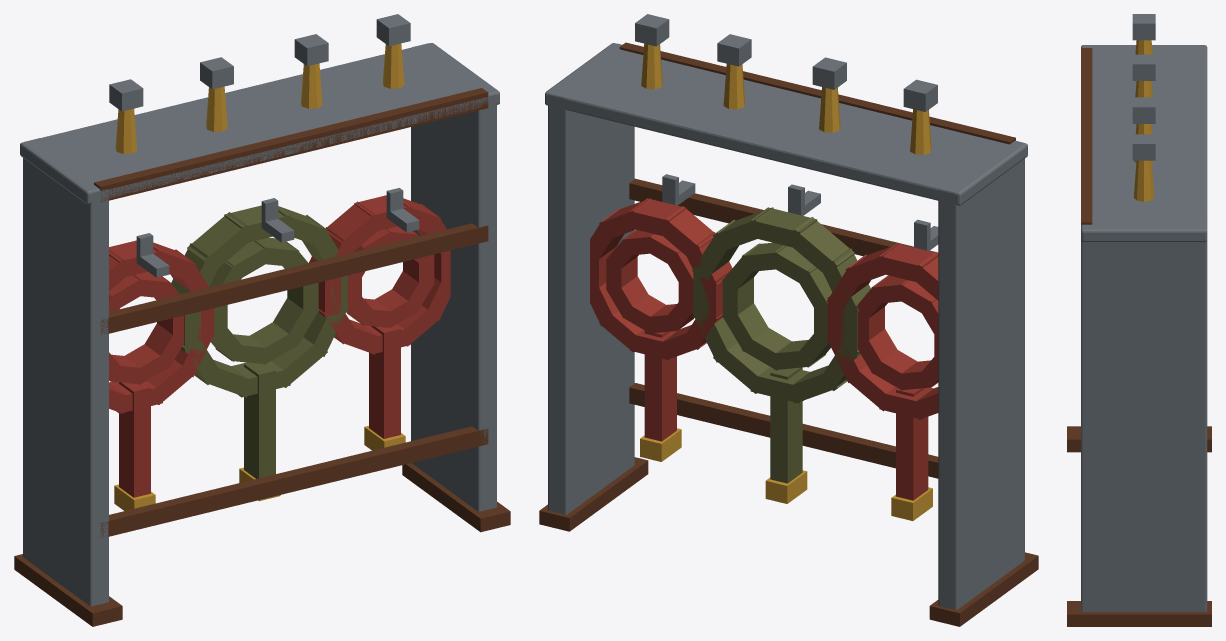
Rendered from hose_rack.glb.
3 renders of one model, left to right at view 1: azimuth 30°, elevation 25°; view 2: azimuth 150°, elevation 25°; view 3: azimuth 270°, elevation 25°, orthographic. The views are drawn at different scales.
Parts seen in each view (by area): view 1: hose_rack; view 2: hose_rack; view 3: hose_rack.
Part boxes in pixels (x1,y1,x2,y2): hose_rack: [14, 14, 510, 626]; hose_rack: [539, 14, 1038, 626]; hose_rack: [1067, 14, 1211, 626].
Size of what is drawn, in the model's own units: 1.94 by 2.18 by 0.63.
Materials: 3 (3 with a texture image).
